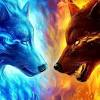Lobo: (46, 1, 98, 81), (1, 2, 47, 78)
